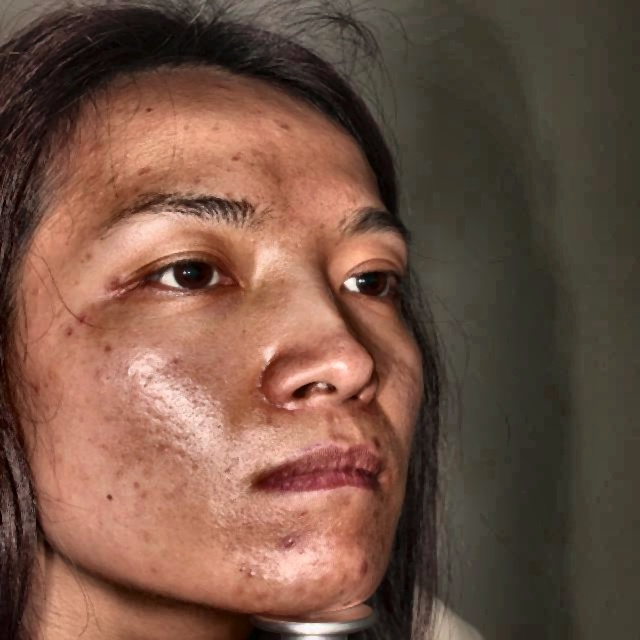comedone: (274, 531, 302, 561), (211, 77, 228, 99), (353, 557, 365, 584)
